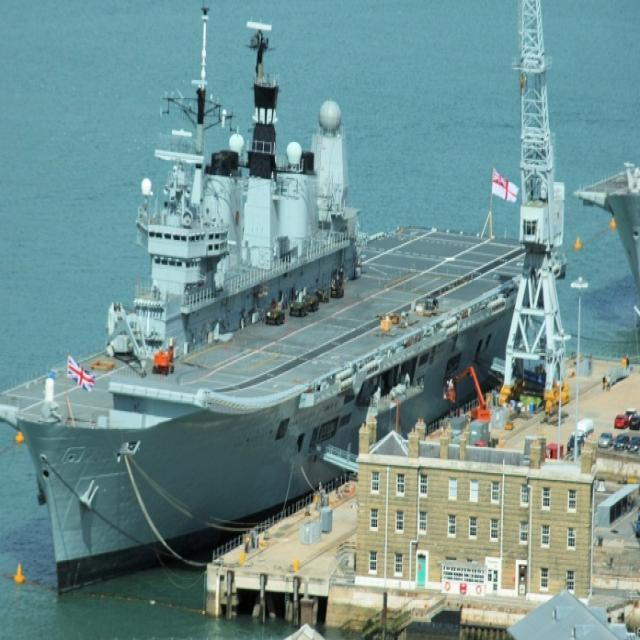Portanaves: (1, 1, 567, 611)
